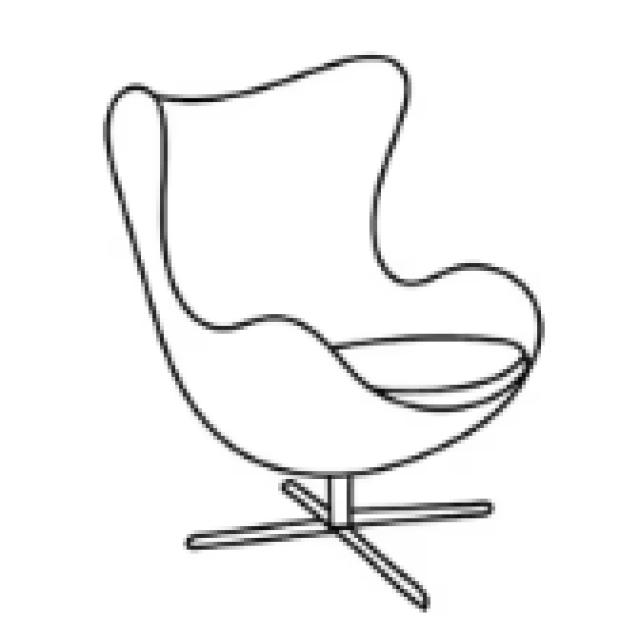Leg_Structure: (171, 463, 515, 629)
Seat: (321, 329, 537, 416)
egg_armrest: (100, 51, 548, 481)
